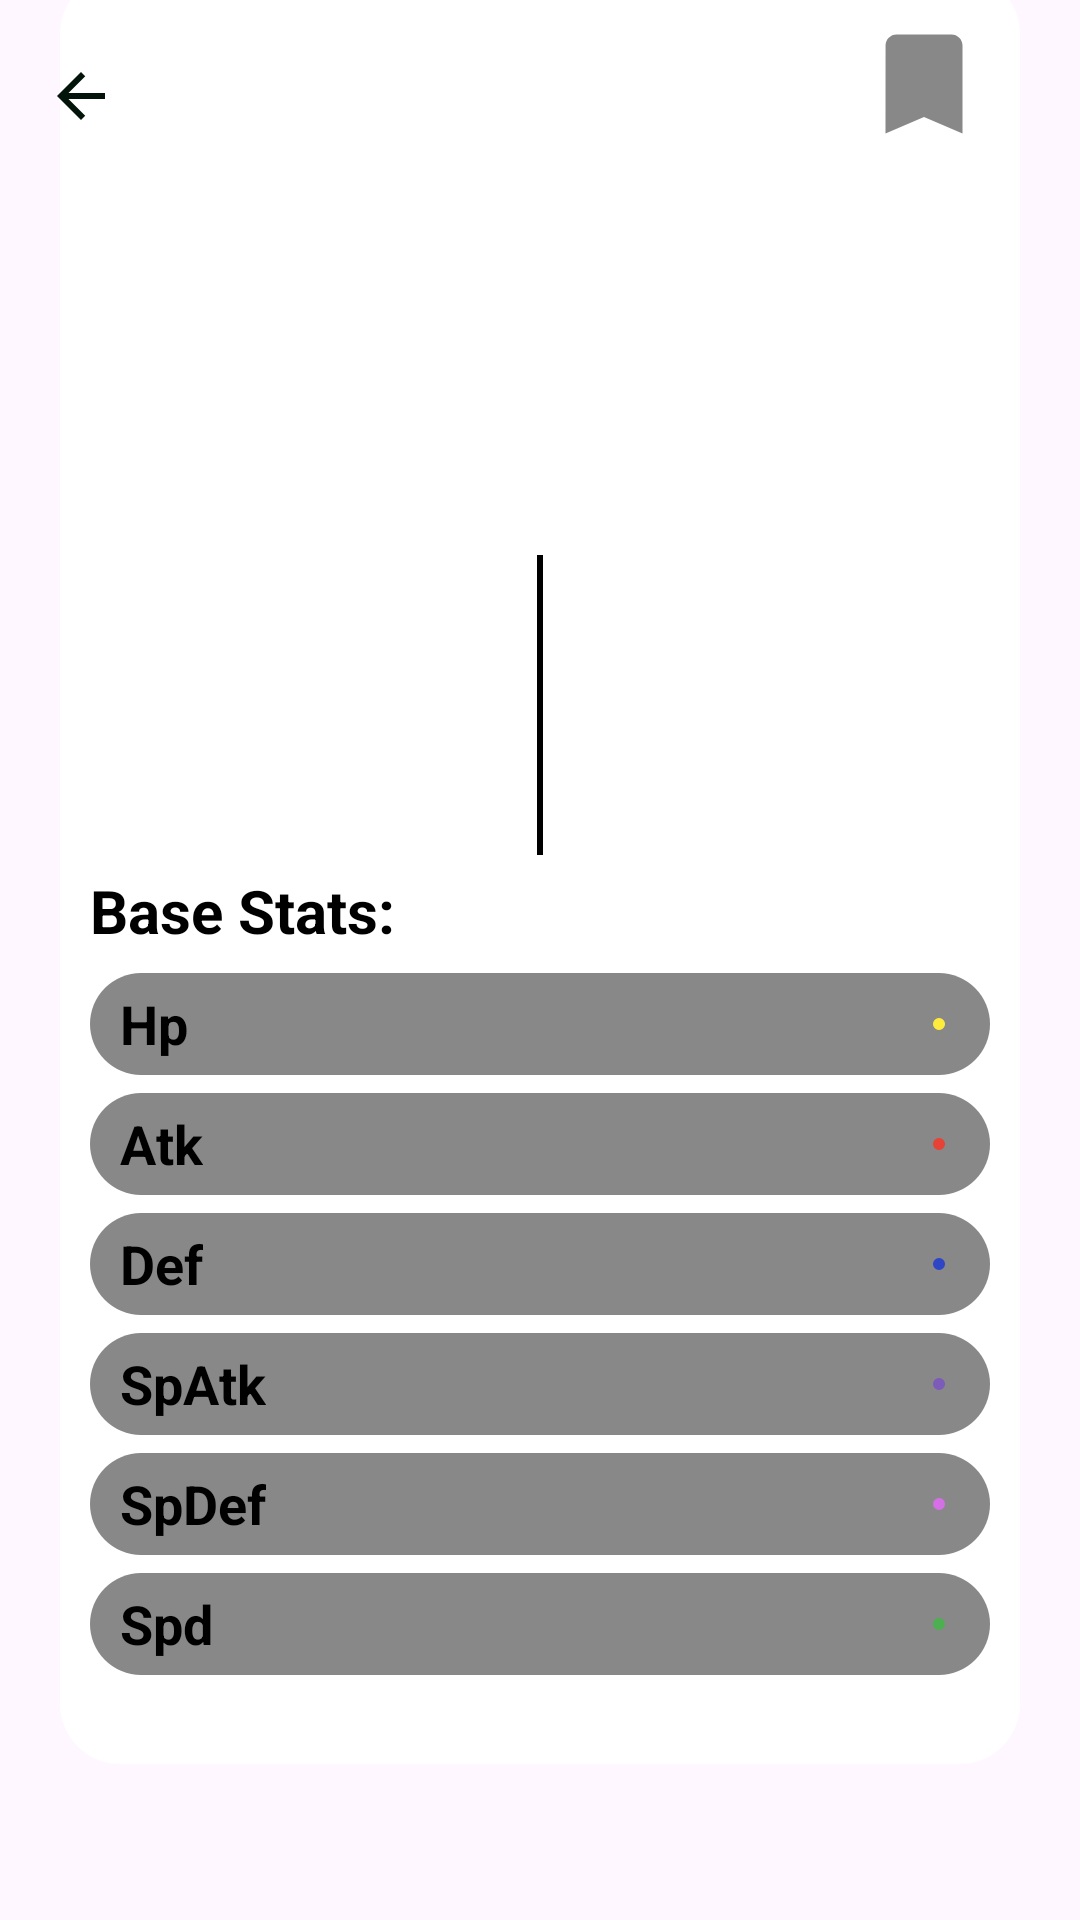

Icon click points for this 1080*1920 phone screenshot, format point (x, y):
back: point (81, 96)
bookmark: point (924, 84)
